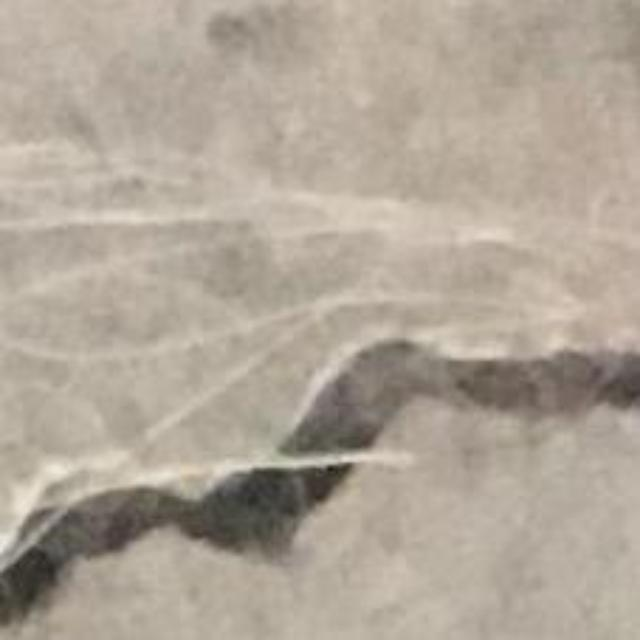crack: (0, 339, 639, 628)
